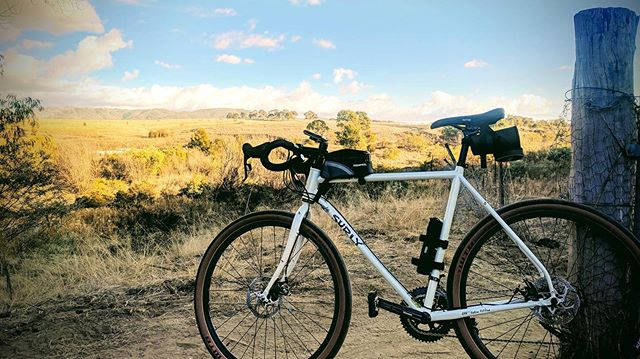bicicle: (210, 135, 640, 359)
sky: (1, 1, 561, 113)
